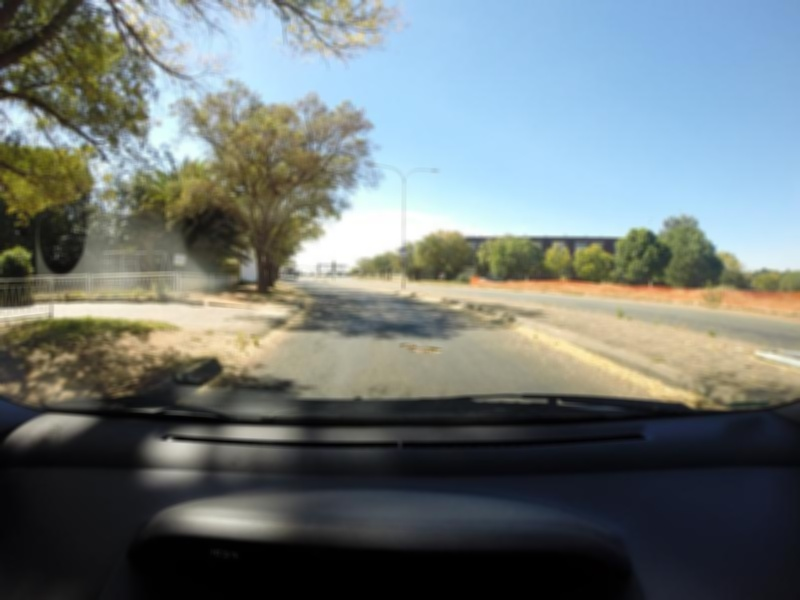pothole: (399, 338, 453, 357)
